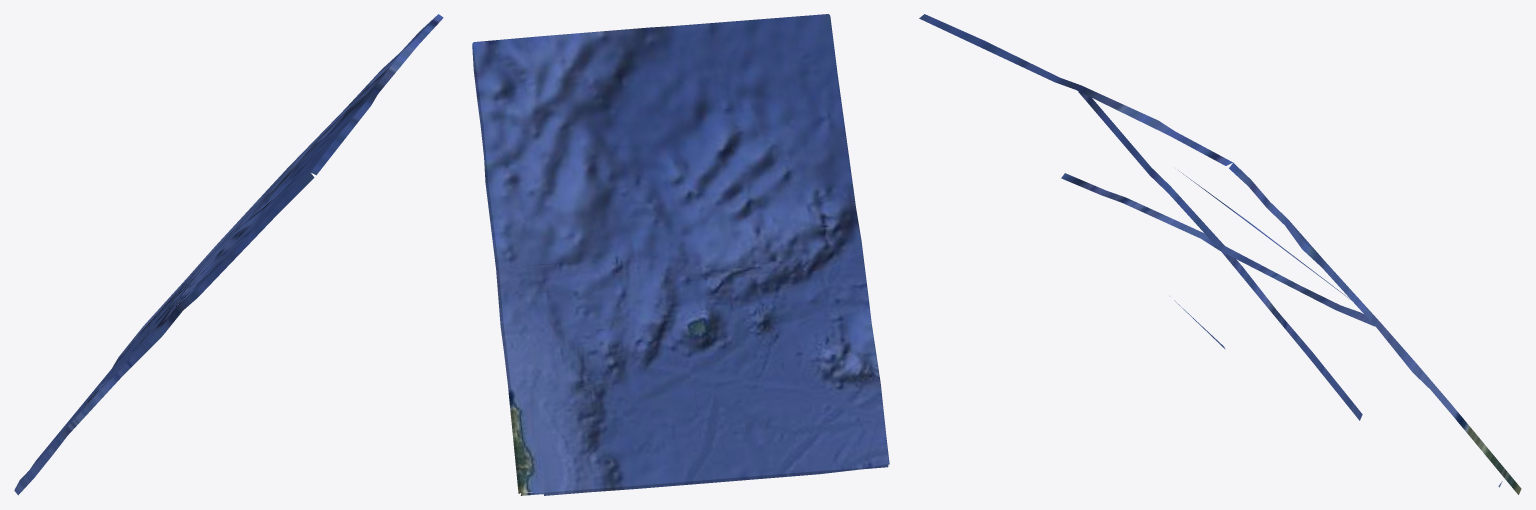
3 renders of one model, left to right at view 1: azimuth 30°, elevation 25°; view 2: azimuth 150°, elevation 25°; view 3: azimuth 270°, elevation 25°, orthographic. The views are drawn at different scales.
Bounding box in the file's own units: 315391 × 251543 × 313101.
1 material, 1 textured.
